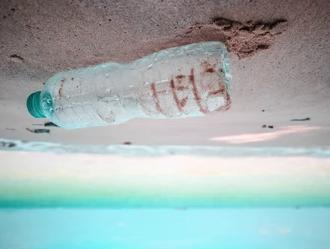Plastic: (24, 37, 234, 128)
